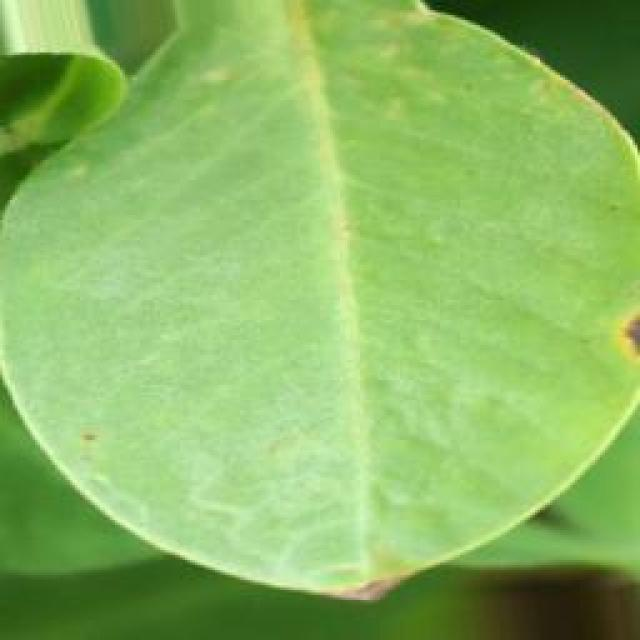Sigatoka: (320, 526, 428, 618), (587, 290, 640, 407), (75, 410, 143, 477)
